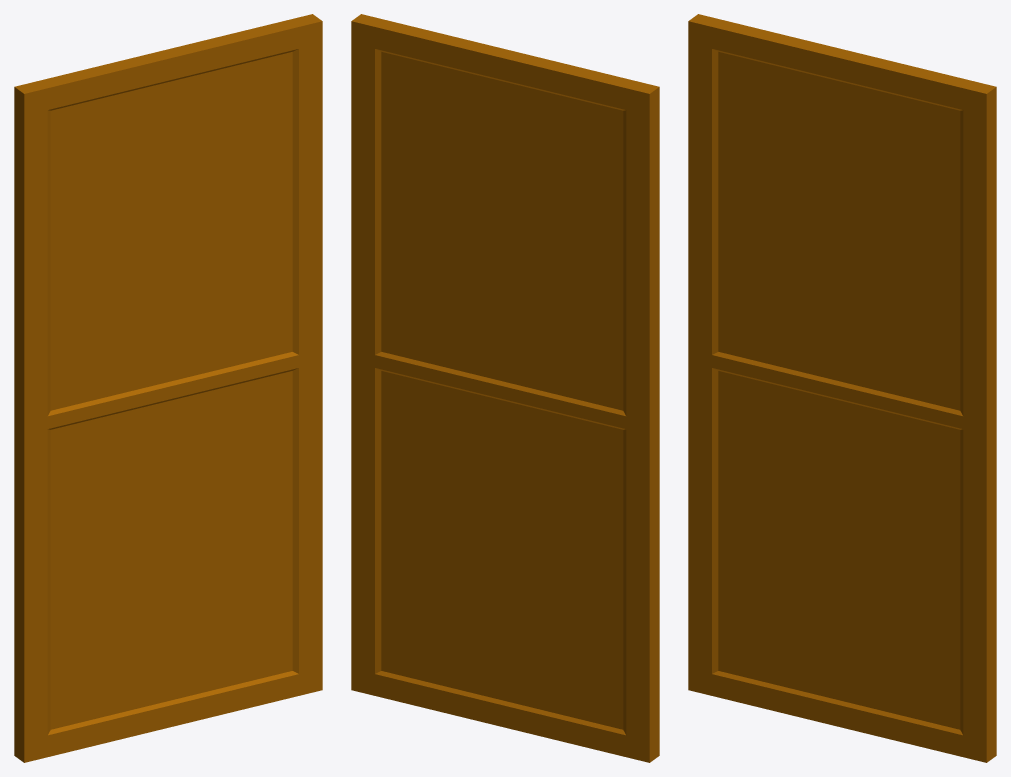
The model's file is Door.fbx.
3 views of the same model, side by side, from view 1: azimuth 30°, elevation 25°; view 2: azimuth 150°, elevation 25°; view 3: azimuth 330°, elevation 25° (orthographic).
Parts seen in each view (by area): view 1: LockedDoor; view 2: LockedDoor; view 3: LockedDoor.
Boxes of the visible parts, x1,y1,x2,y2 form: LockedDoor: (14,14,322,762); LockedDoor: (351,14,659,762); LockedDoor: (688,14,996,762).
Size of the model in its own units: 560 by 1200 by 31.97.
